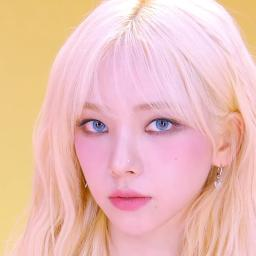face: (84, 70, 198, 228)
